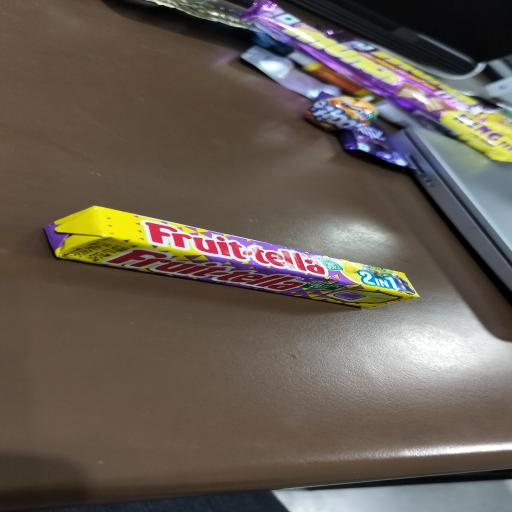Fruit-Tella: (132, 216, 338, 281), (104, 248, 315, 297)
chocolate: (43, 203, 420, 312)
